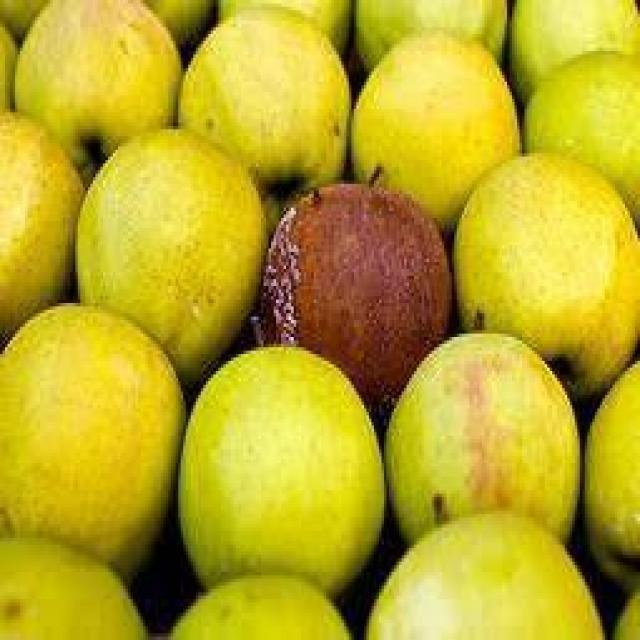Fresh Apple: (0, 298, 180, 552), (453, 141, 640, 363), (185, 354, 378, 568), (71, 143, 262, 350), (387, 345, 578, 520), (368, 513, 601, 640), (347, 25, 518, 180), (187, 3, 353, 162), (13, 0, 178, 128), (521, 49, 640, 193)
Rotten: (258, 175, 450, 358)
